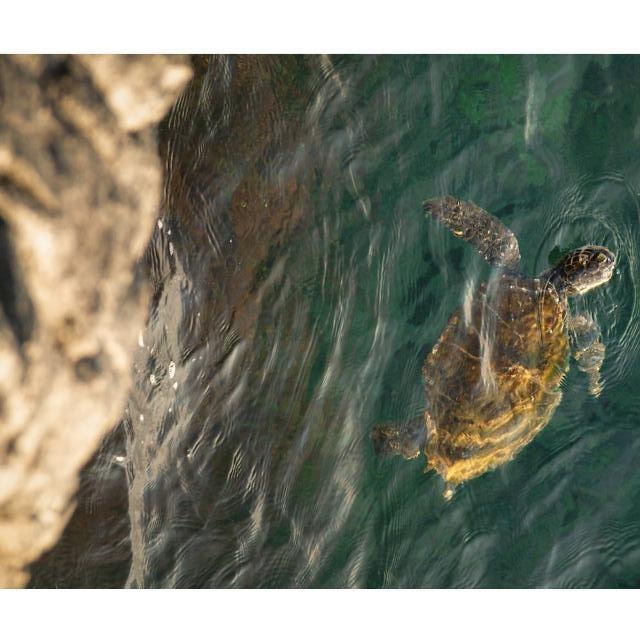turtle: (368, 195, 616, 508)
